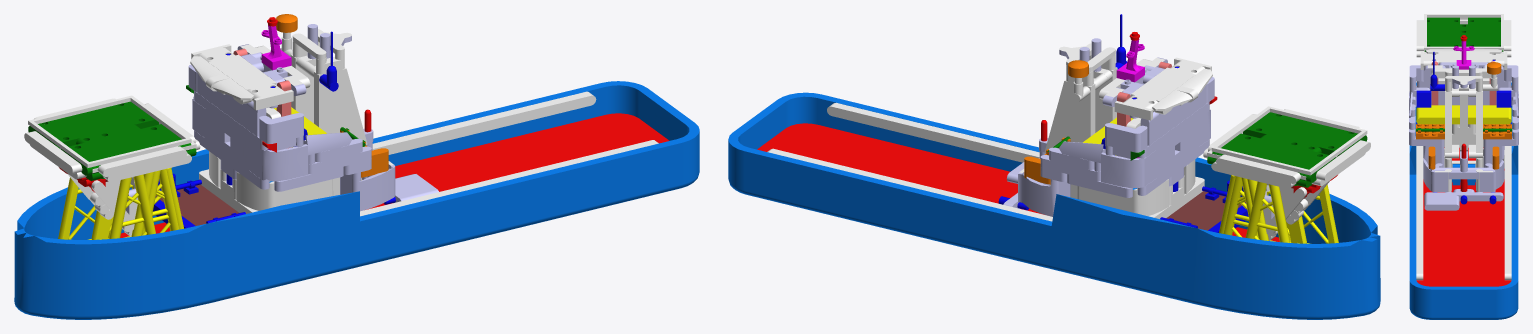
Rendered from ship-fta_Scale.fbx.
The picture shows the model from 3 angles, left to right: view 1: azimuth 30°, elevation 25°; view 2: azimuth 150°, elevation 25°; view 3: azimuth 270°, elevation 25°; orthographic projection. The views are drawn at different scales.
Parts seen in each view (by area): view 1: MechanicalTool.1; view 2: MechanicalTool.1; view 3: MechanicalTool.1.
Boxes of the visible parts, <box> form: MechanicalTool.1: <box>14,14,699,319</box>; MechanicalTool.1: <box>728,14,1380,319</box>; MechanicalTool.1: <box>1409,14,1518,319</box>.
Bounding box in the file's own units: 55.3 × 18.77 × 12.04.
